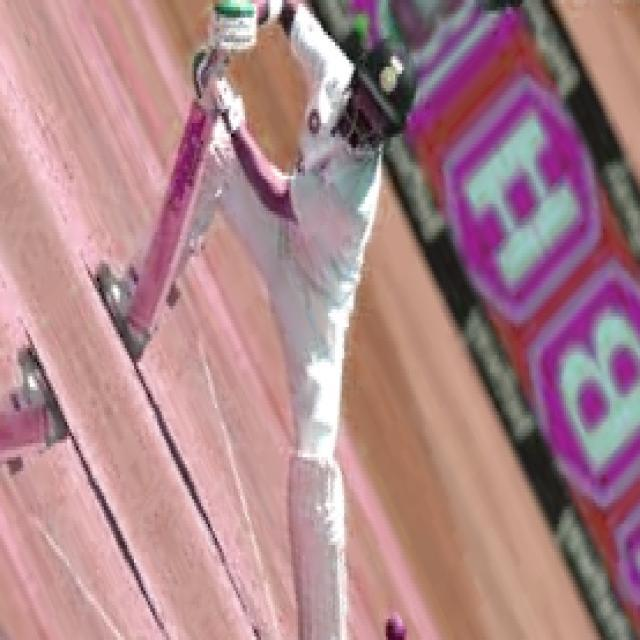bat: (123, 97, 213, 358)
toe: (119, 324, 158, 345)
